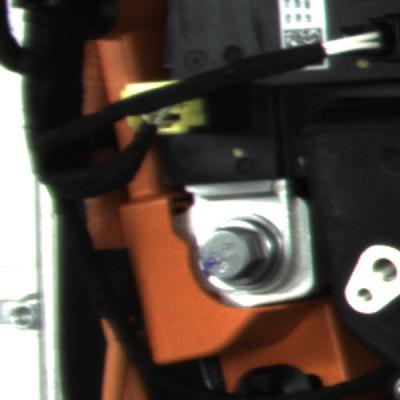nut_b: (195, 202, 284, 287)
